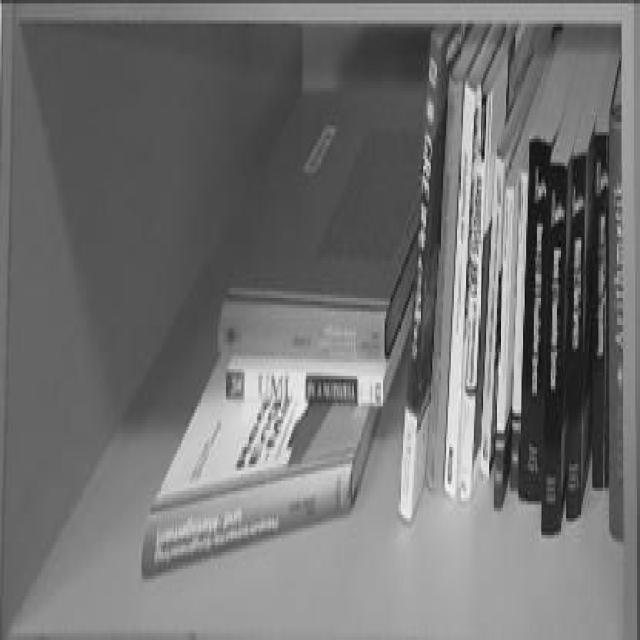book: (226, 63, 429, 359), (144, 400, 385, 583), (399, 44, 446, 522), (567, 152, 591, 508), (609, 109, 628, 544), (217, 368, 398, 397)
